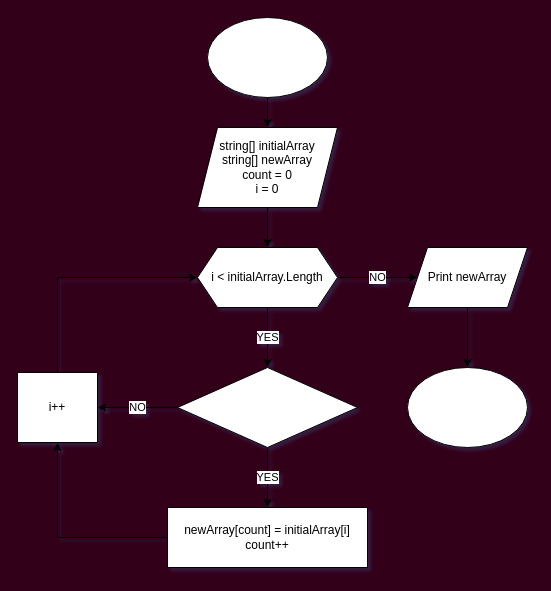
Image size: 551x591. Some labels were removed from this diagram. The centre of each missing label's shape, as x and y in pixels:
array[i].Length <= 3: [267,407]
Finish: [467,407]
Start: [267,57]
